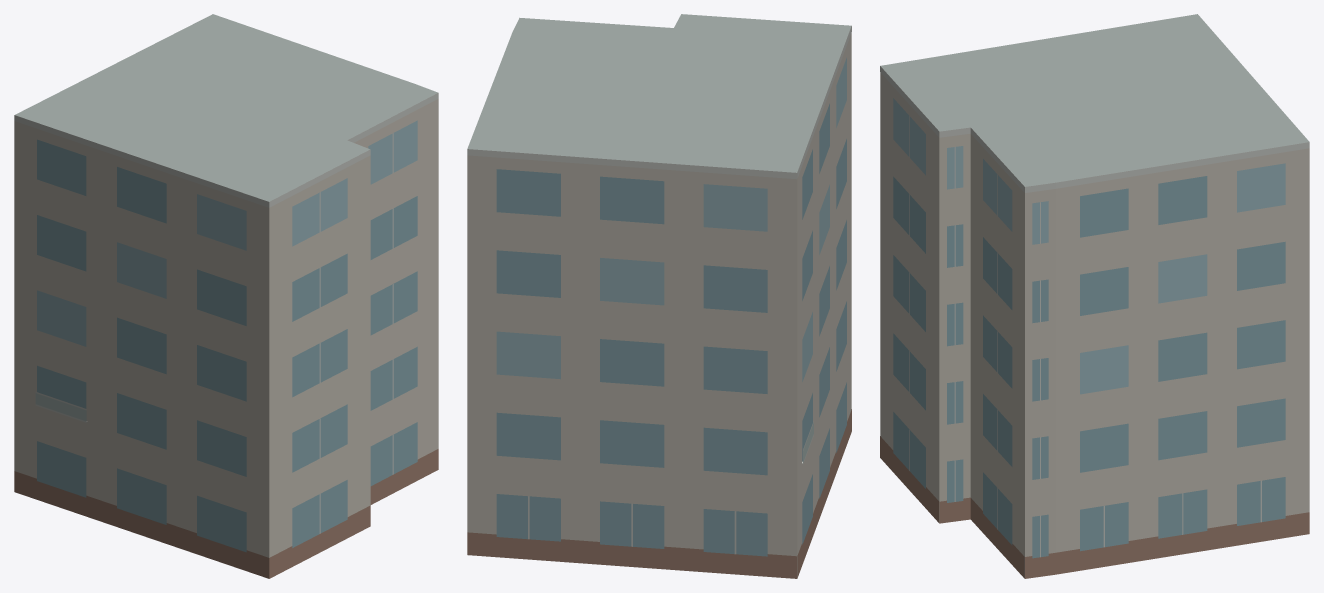
File: survey-upis-32950822.glb
3 views of the same model, side by side, from view 1: azimuth 30°, elevation 25°; view 2: azimuth 150°, elevation 25°; view 3: azimuth 270°, elevation 25° (orthographic). The views are drawn at different scales.
Visible parts, largest first — view 1: survey-upis-32950822.tmp; view 2: survey-upis-32950822.tmp; view 3: survey-upis-32950822.tmp.
Boxes of the visible parts, x1=… form: survey-upis-32950822.tmp: x1=14, y1=14, x2=438, y2=578; survey-upis-32950822.tmp: x1=467, y1=14, x2=851, y2=578; survey-upis-32950822.tmp: x1=880, y1=14, x2=1309, y2=578.
Size of the model in its own units: 14.73 by 15.55 by 15.46.
